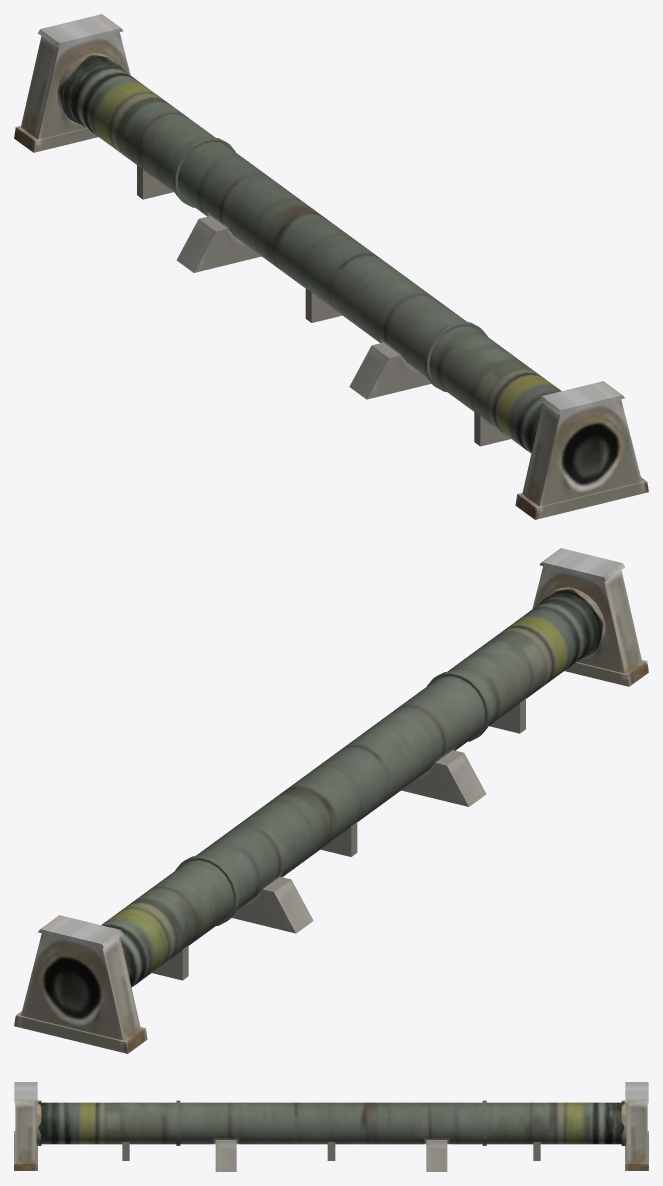
The model's file is straightpipe3_cad.glb.
The picture shows the model from 3 angles, top to bottom: view 1: azimuth 30°, elevation 25°; view 2: azimuth 150°, elevation 25°; view 3: azimuth 270°, elevation 25°; orthographic projection. The views are drawn at different scales.
Visible parts, largest first — view 1: Straight3; view 2: Straight3; view 3: Straight3.
Boxes of the visible parts, left/top/right/bottom form: Straight3: left=14, top=14, right=648, bottom=519; Straight3: left=14, top=548, right=648, bottom=1053; Straight3: left=14, top=1082, right=648, bottom=1171.
Size of the model in its own units: 3.41 by 2.81 by 25.68.
1 material, 1 textured.
